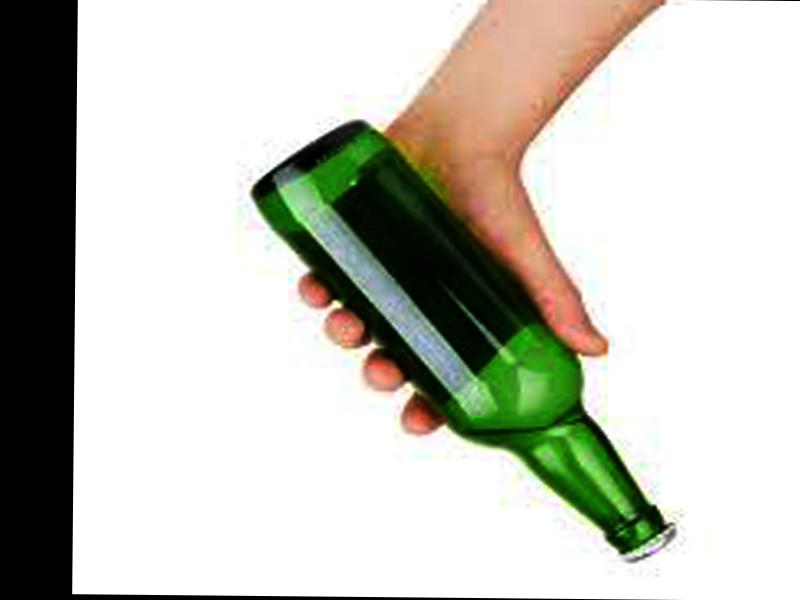Beer: (253, 112, 680, 556)
